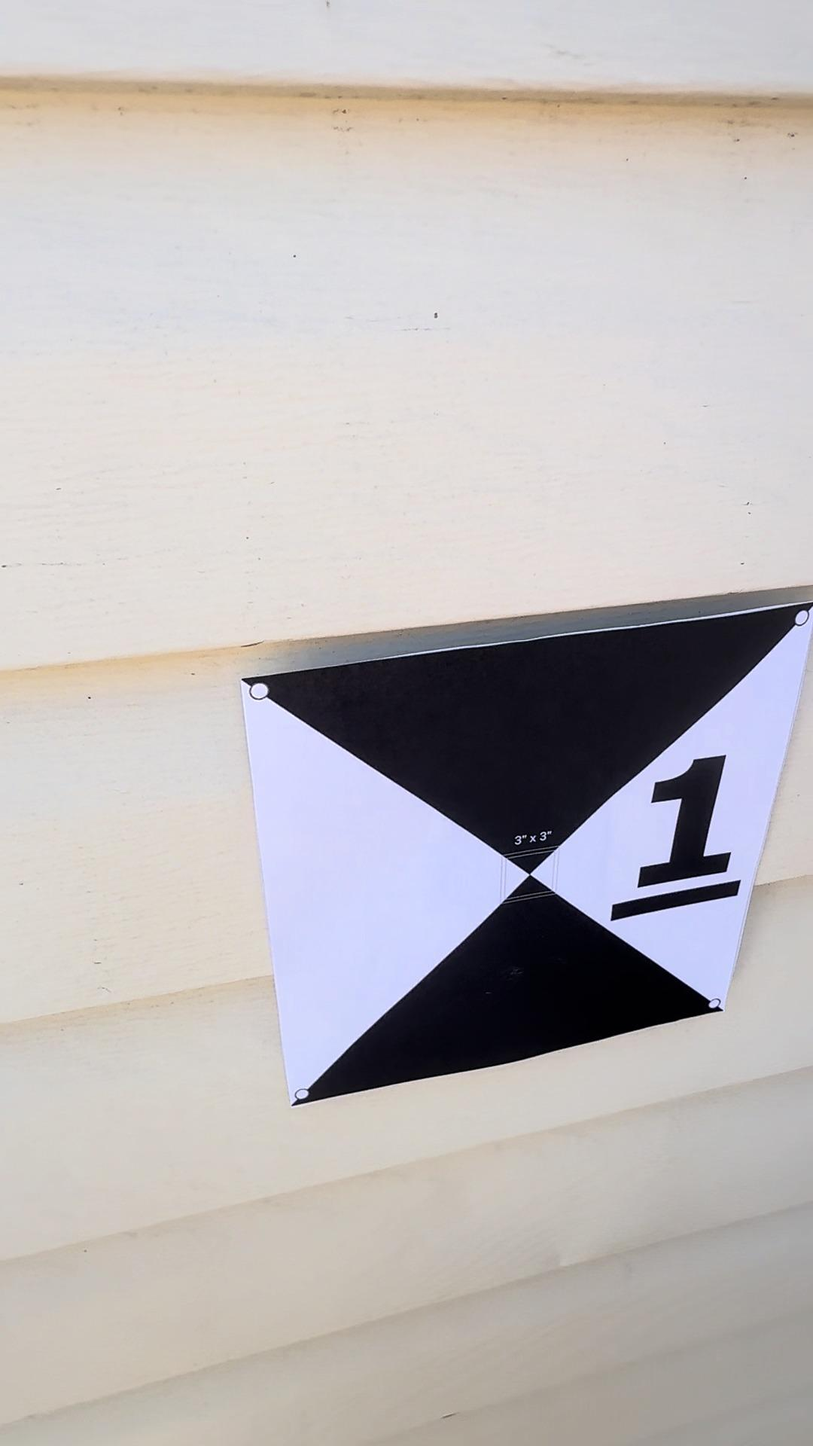target1: (222, 587, 804, 1130)
